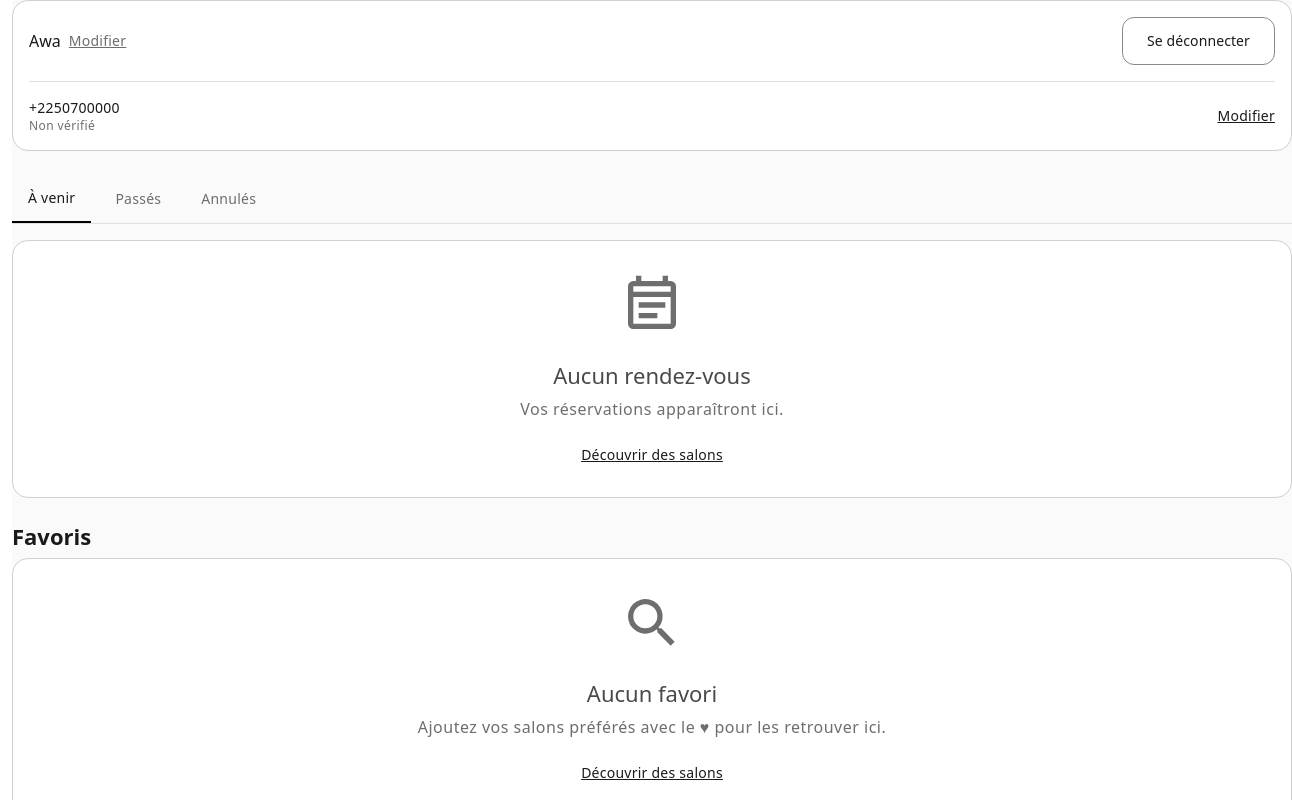
Test case: « Mon compte » — editing the contact phone › a prefilled number the rule refuses: the button stays enabled, the fault is under the field, nothing is sent
Click the button "Modifier" in the row of "+2250700000" at (1246, 116), box [1218, 106, 1275, 126]
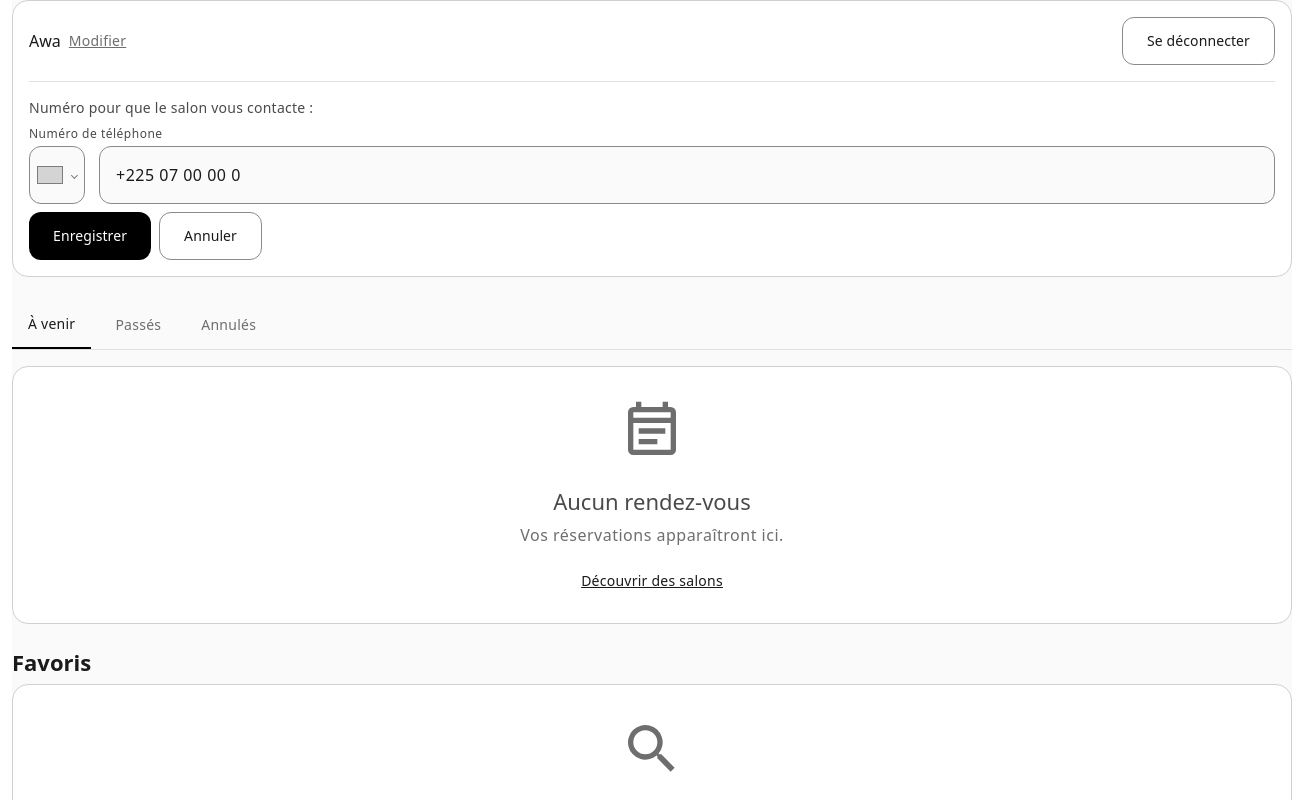
Expected: the button "Enregistrer" is enabled
Click the button "Enregistrer" at (90, 236), box [29, 212, 151, 260]
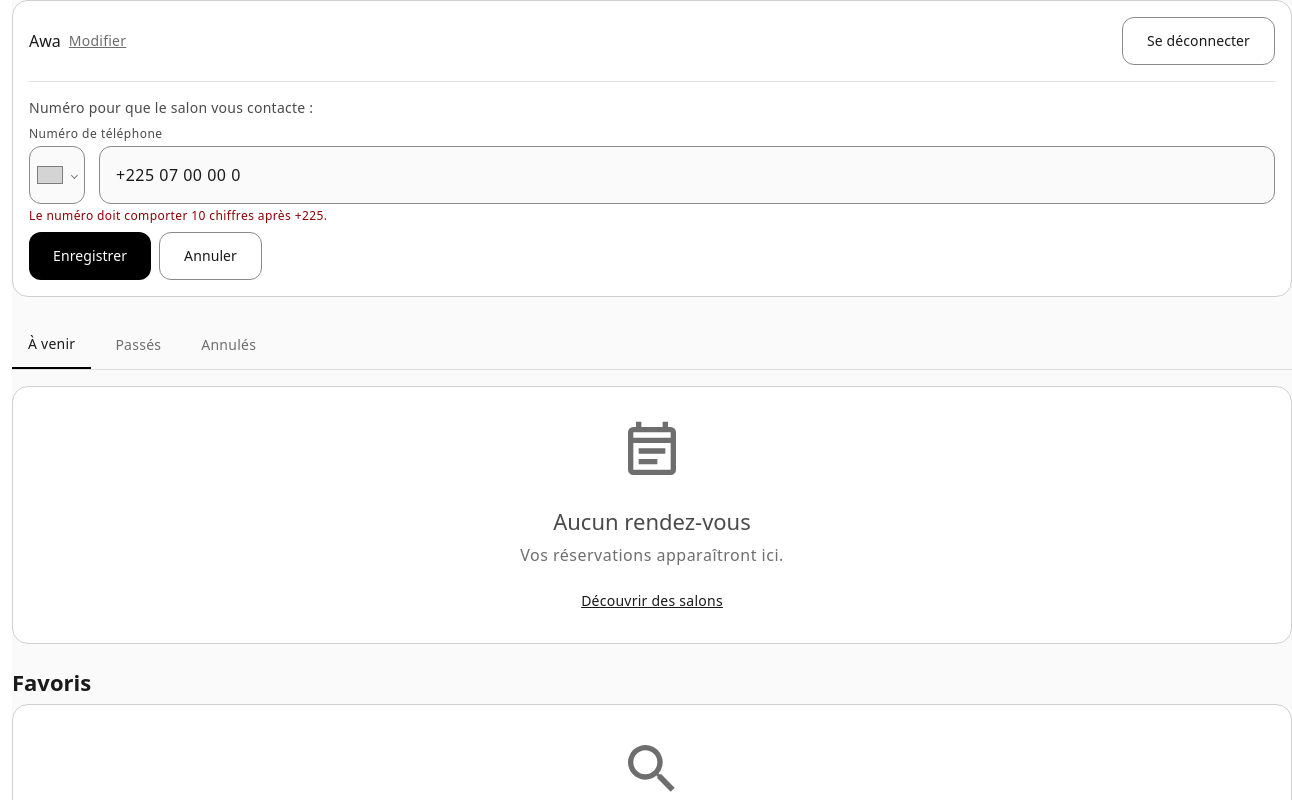
Expected: the text "Le numéro doit comporter 10 chiffres après +225." is shown, [29, 207, 327, 224]
